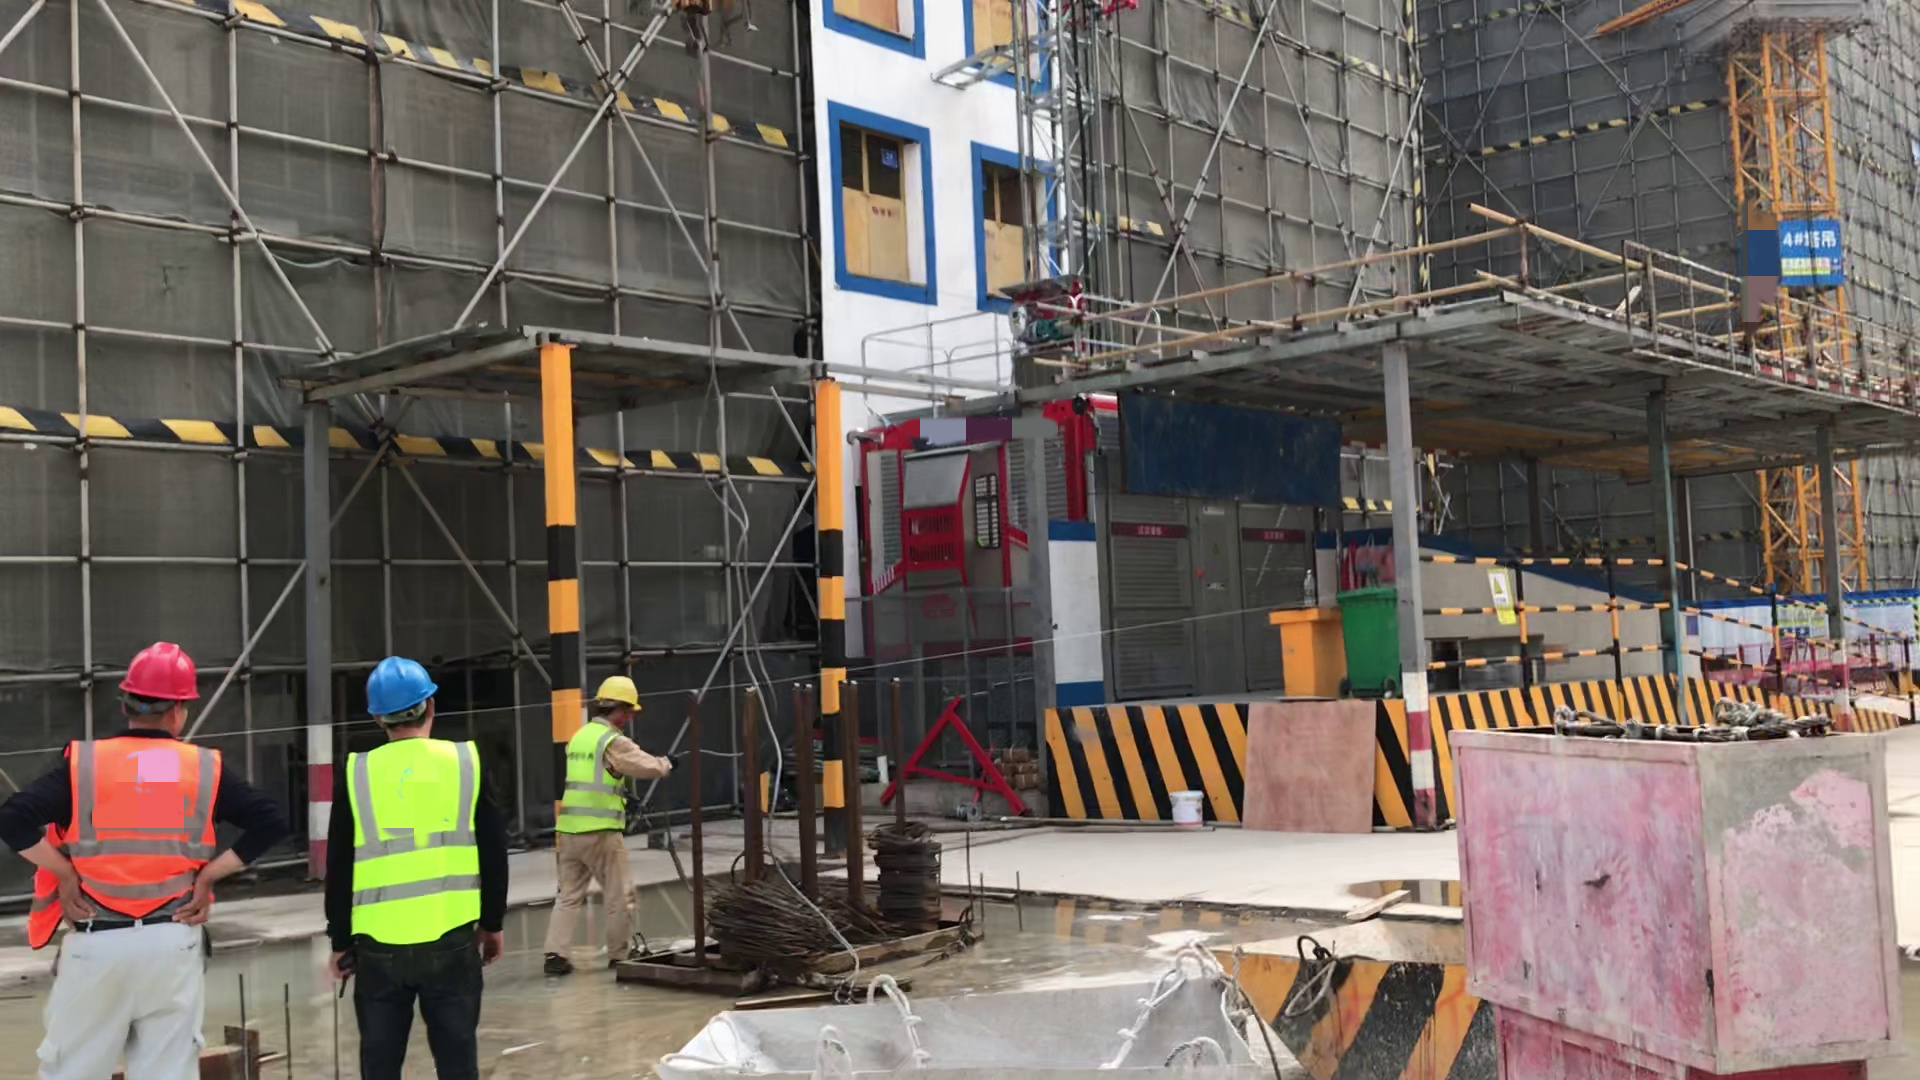ebox: (1271, 603, 1348, 695)
helmet: (359, 657, 438, 720), (117, 645, 198, 701), (594, 674, 642, 712)
hopper: (682, 968, 1276, 1080), (1232, 914, 1501, 1080)
person: (29, 645, 255, 1080), (323, 660, 508, 1080), (551, 674, 652, 973)
slogan: (1488, 564, 1516, 634)
vest: (31, 746, 217, 922), (345, 738, 478, 953), (563, 720, 628, 833)
